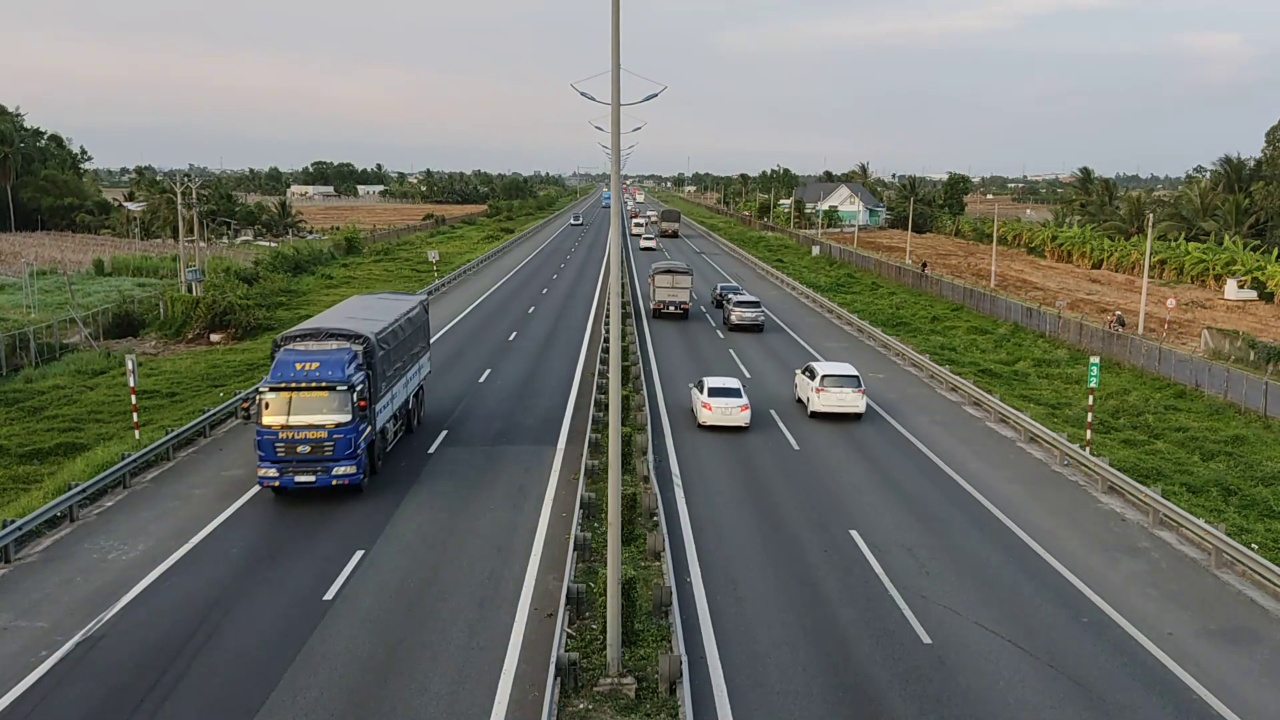car: (793, 360, 868, 417), (688, 375, 752, 429), (720, 292, 765, 332), (710, 282, 745, 307)
truck: (253, 290, 433, 493)
